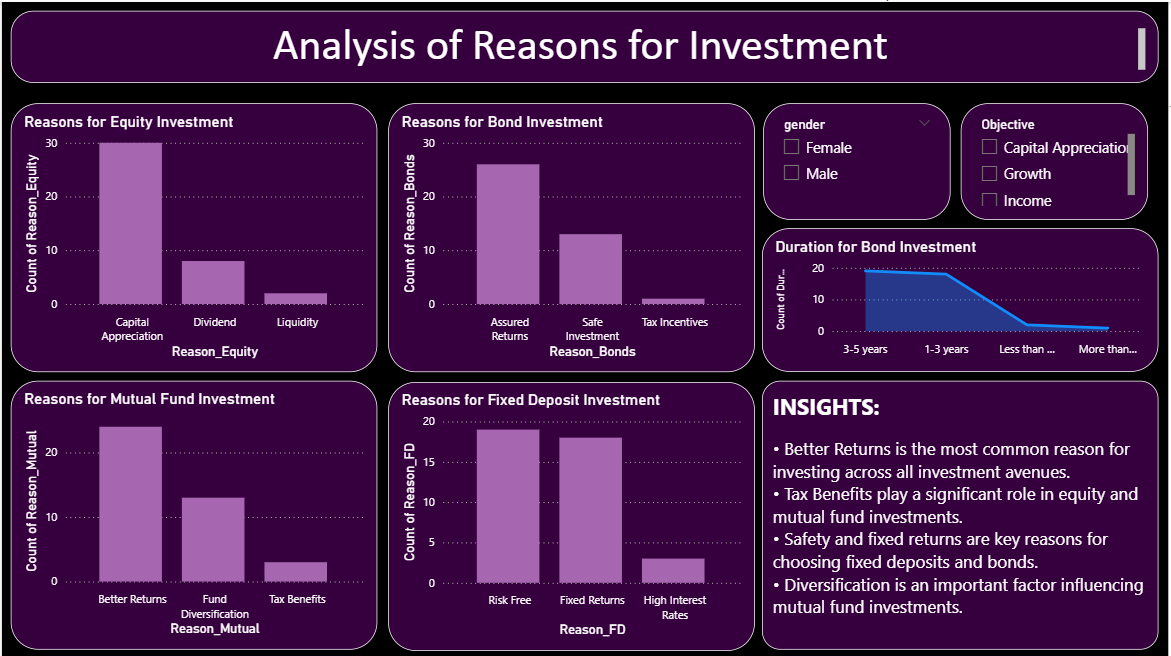

What the dashboard file says about the page in this screenshot:
{"tool":"powerbi","page":{"name":"Page 1","canvas":[1280,720],"ordinal":0},"visuals":[{"type":"textbox","box":[9.6,9.6,1259.7,79.6],"z":0},{"type":"columnChart","title":"Reasons for Equity Investment","fields":{"Category":["Data_set 2.Reason_Equity"],"Y":["CountNonNull(Data_set 2.Reason_Equity)"]},"box":[9.6,111.1,402.1,295],"z":1},{"type":"columnChart","title":"Reasons for Mutual Fund Investment","fields":{"Category":["Data_set 2.Reason_Mutual"],"Y":["CountNonNull(Data_set 2.Reason_Mutual)"]},"box":[9.6,415.8,402.1,295],"z":2},{"type":"columnChart","title":"Reasons for Bond Investment","fields":{"Category":["Data_set 2.Reason_Bonds"],"Y":["CountNonNull(Data_set 2.Reason_Bonds)"]},"box":[424,111.1,402.1,295],"z":3},{"type":"columnChart","title":"Reasons for Fixed Deposit Investment","fields":{"Category":["Data_set 2.Reason_FD"],"Y":["CountNonNull(Data_set 2.Reason_FD)"]},"box":[424,417.2,402.1,295],"z":4},{"type":"textbox","box":[834.3,415.8,435,295],"z":5},{"type":"areaChart","title":"Duration for Bond Investment","fields":{"Category":["Data_set 2.Duration"],"Y":["CountNonNull(Data_set 2.Duration)"]},"box":[834.3,248.4,435,157.8],"z":6},{"type":"slicer","title":"Duration for Bond Investment","fields":{"Values":["Data_set 2.gender"]},"box":[835.7,111.1,205.8,127.6],"z":7},{"type":"slicer","title":"Duration for Bond Investment","fields":{"Values":["Data_set 2.Objective"]},"box":[1052.5,111.1,205.8,127.6],"z":8}]}

Visuals, with their boxes in screenshot pixels (x1, y1, x2, y2), scaled from the page's 1280x720 canvas onto the 1171x656 screenshot:
textbox: crop(9, 9, 1161, 81)
"Reasons for Equity Investment" columnChart: crop(9, 101, 377, 370)
"Reasons for Mutual Fund Investment" columnChart: crop(9, 379, 377, 648)
"Reasons for Bond Investment" columnChart: crop(388, 101, 756, 370)
"Reasons for Fixed Deposit Investment" columnChart: crop(388, 380, 756, 649)
textbox: crop(763, 379, 1161, 648)
"Duration for Bond Investment" areaChart: crop(763, 226, 1161, 370)
"Duration for Bond Investment" slicer: crop(765, 101, 953, 217)
"Duration for Bond Investment" slicer: crop(963, 101, 1151, 217)
